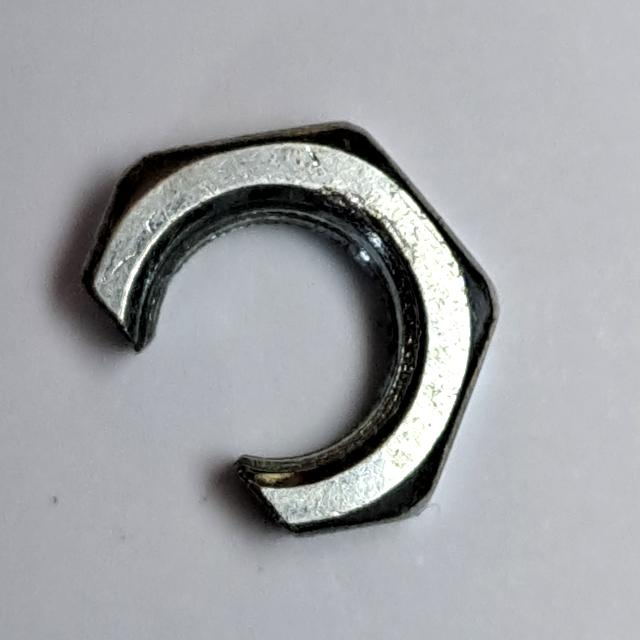Fracture: (68, 113, 511, 550)
